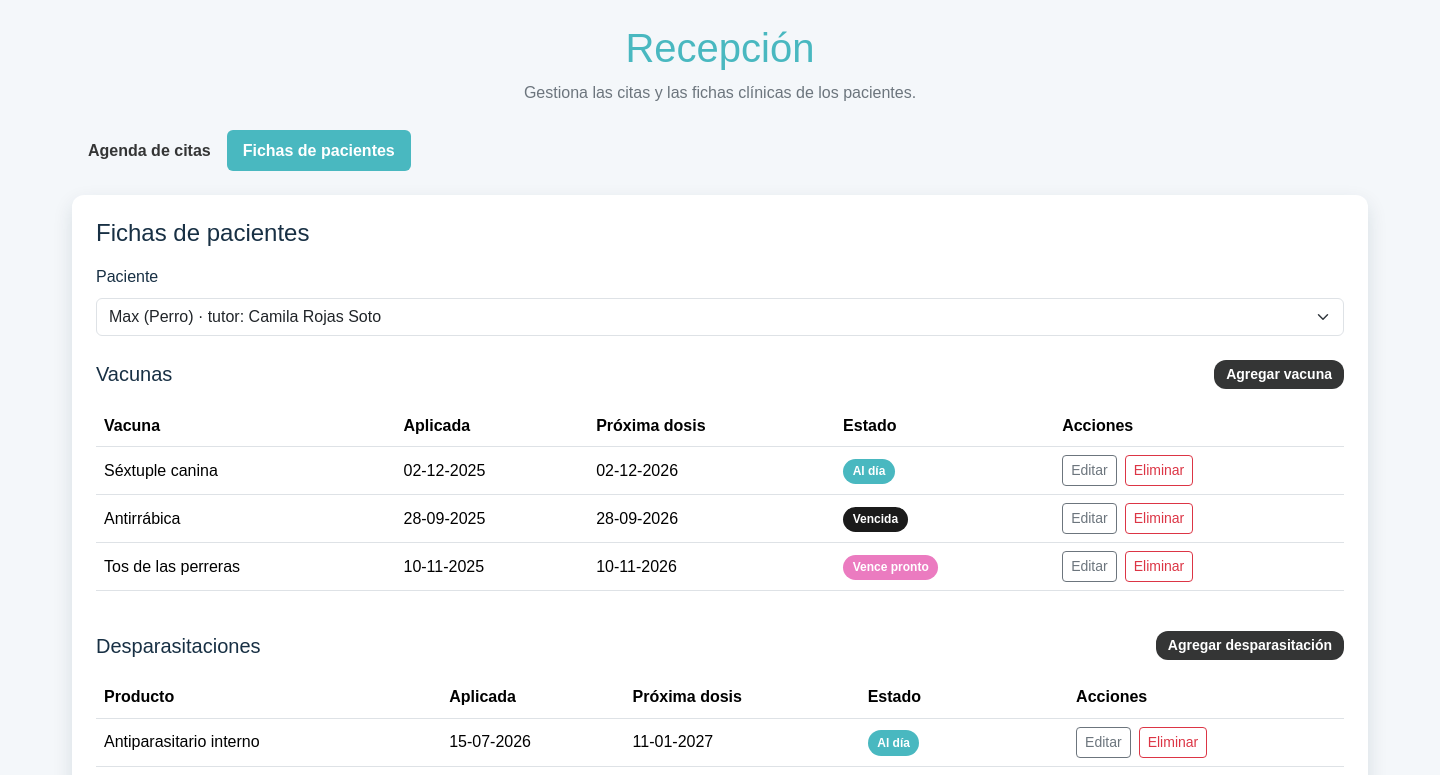
it: FichasPacientes › registra una vacuna nueva y la guarda en el paciente elegido
Click the button "Agregar vacuna" at (1279, 374), box [1214,360,1344,389]
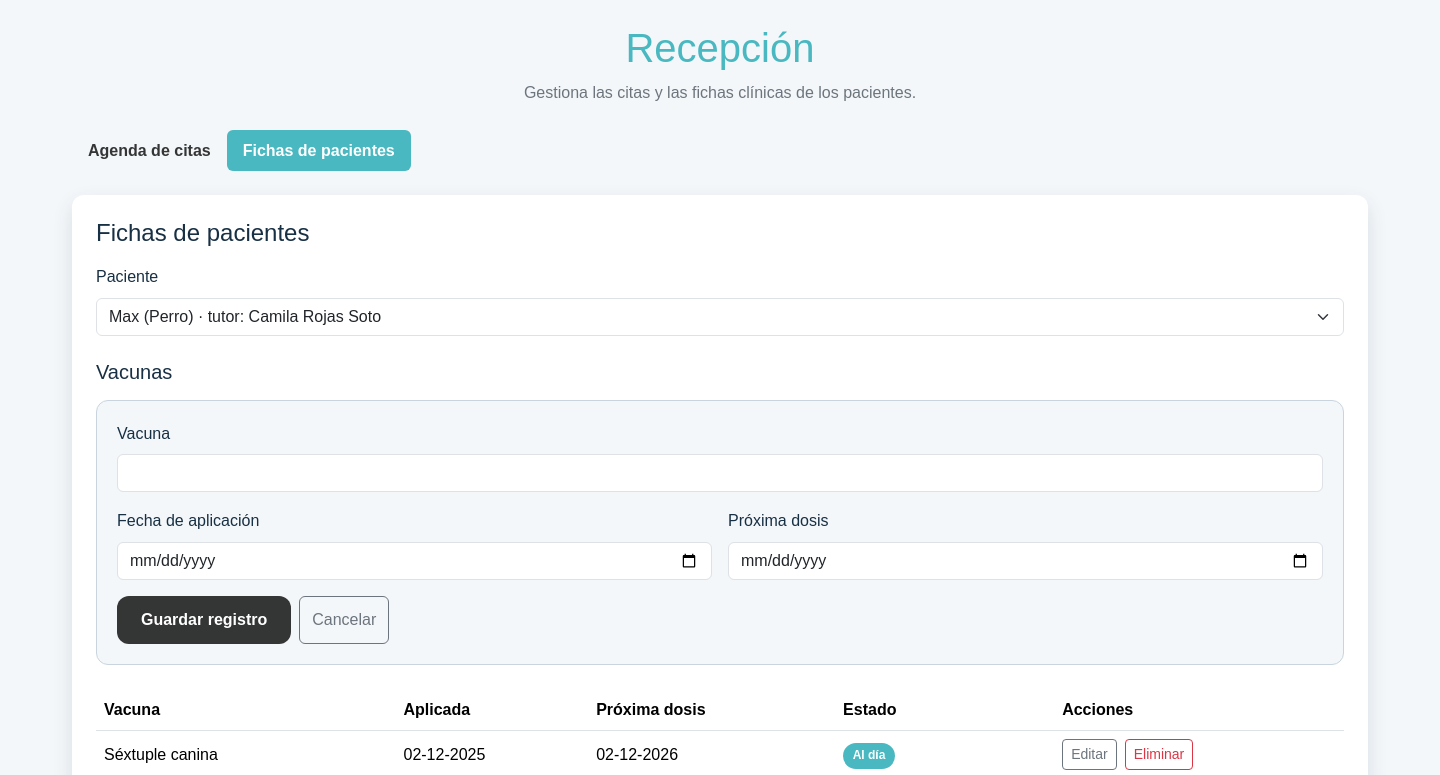
Type "Rabia" into the field labelled "Vacuna" at (720, 473), box [117,454,1323,492]
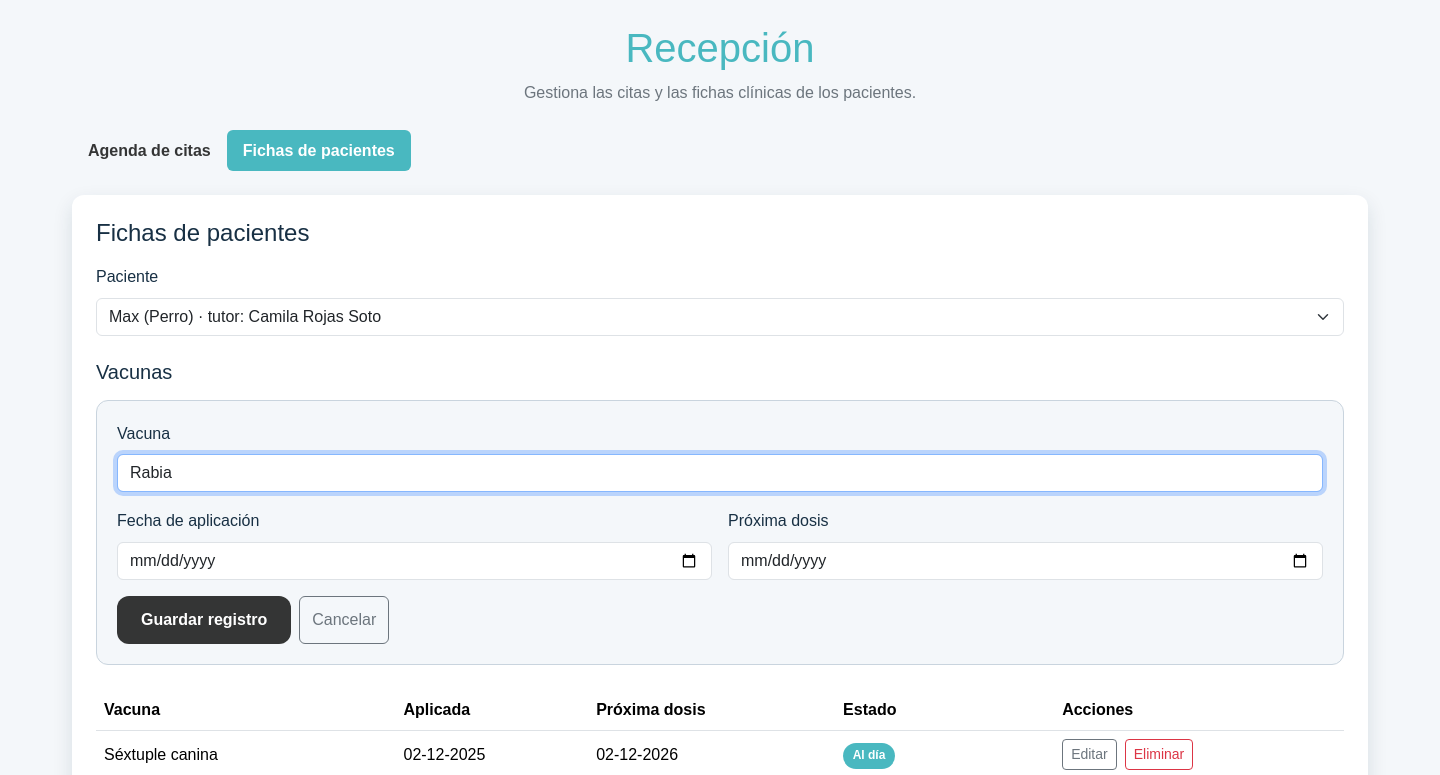
Type "2025-05-10" into the date field labelled "Fecha de aplicación" at (414, 561), box [117,542,712,580]
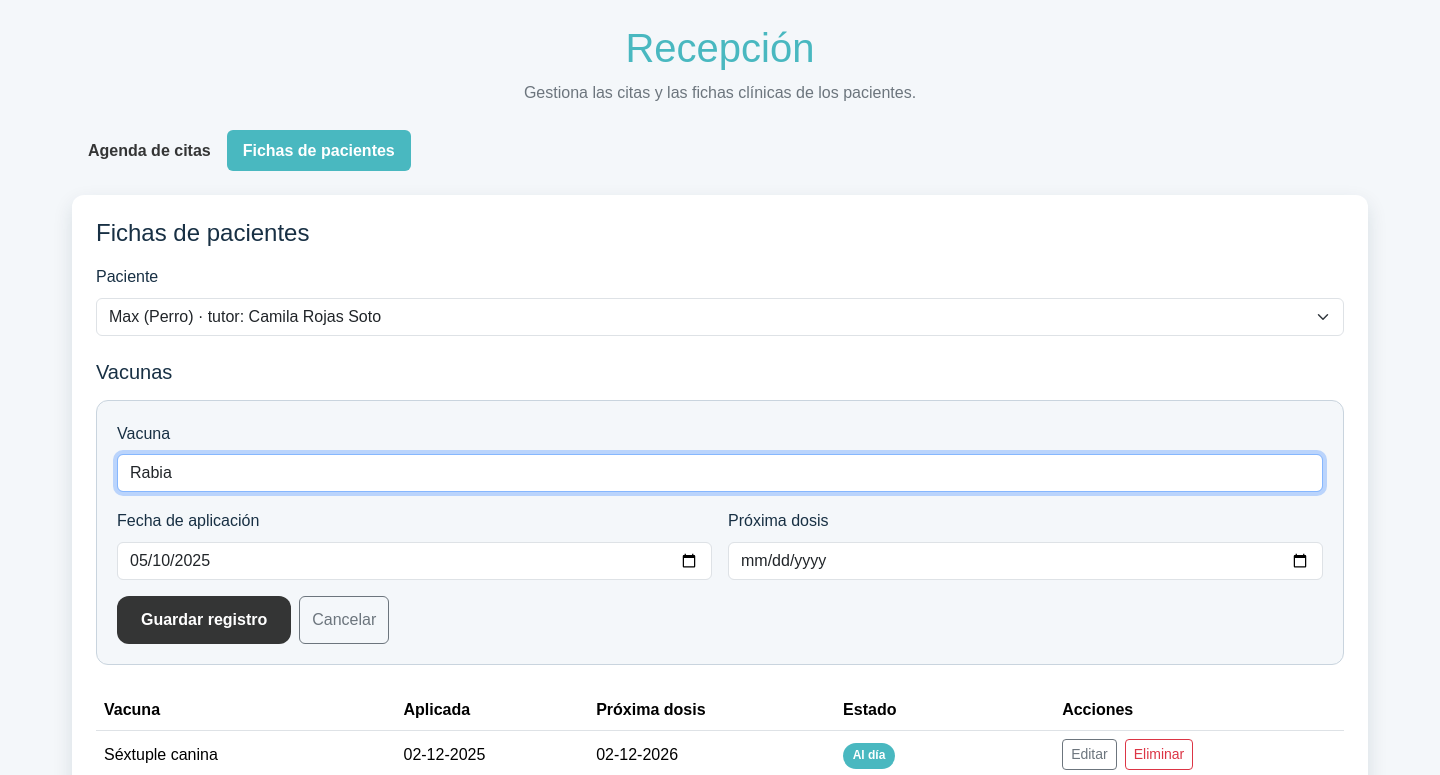
Type "2099-05-10" into the date field labelled "Próxima dosis" at (1026, 561), box [728,542,1323,580]
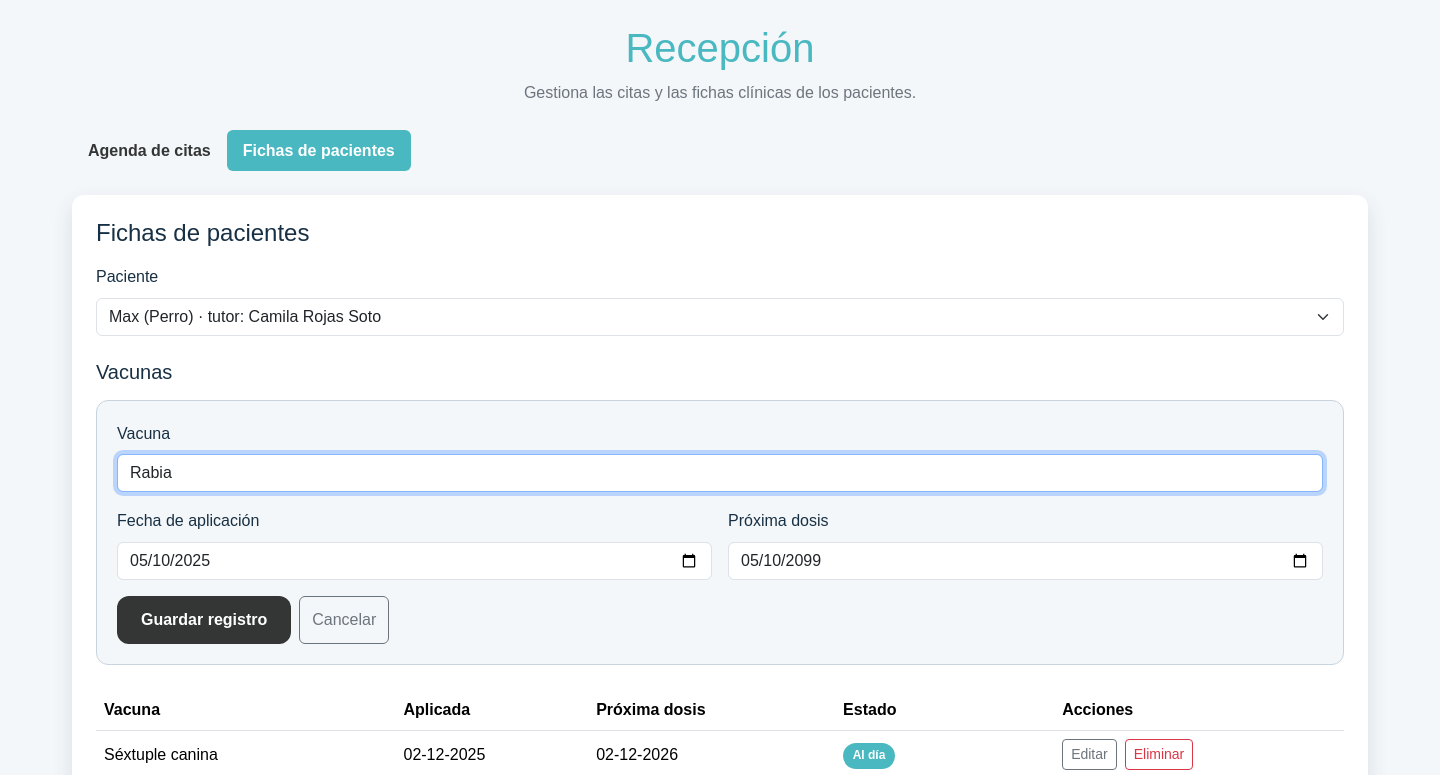
Click the button "Guardar registro" at (204, 620), box [117,596,291,644]
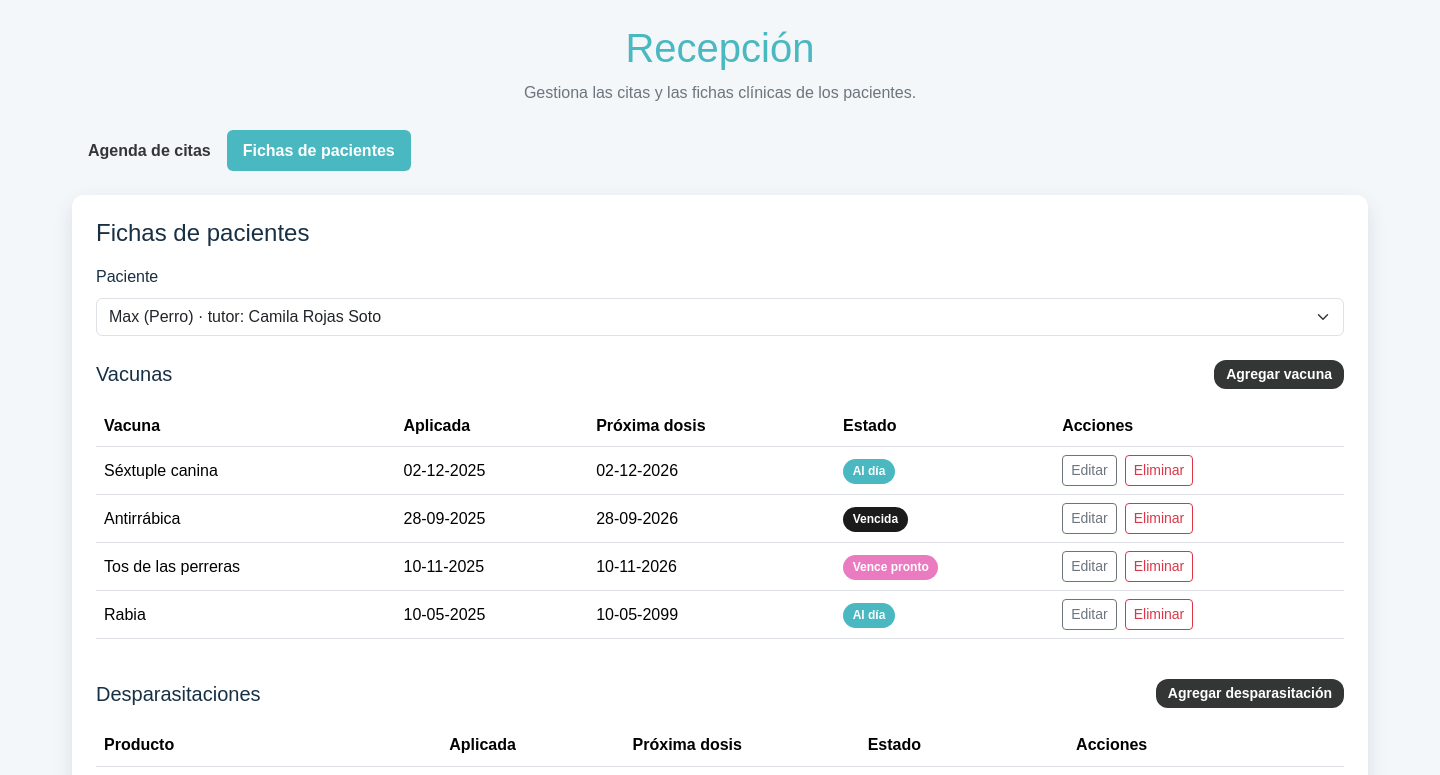
Now the text "Rabia" is shown, box [96,591,396,639]
